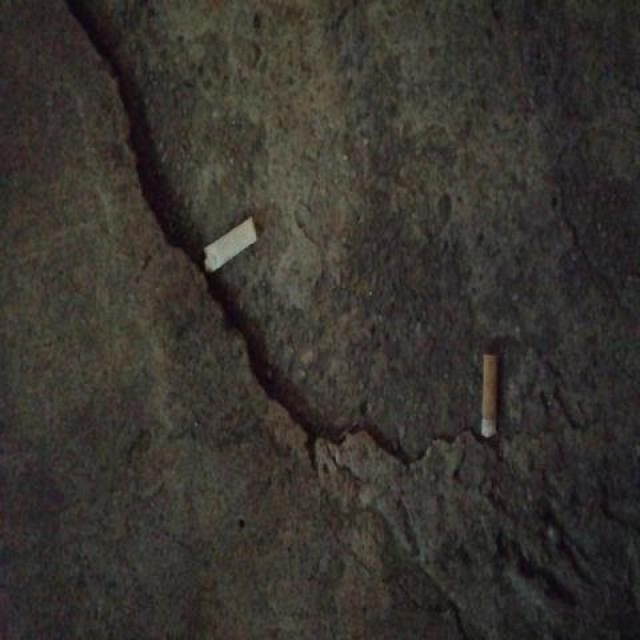non-organic waste: (200, 210, 260, 278), (475, 347, 505, 445)
